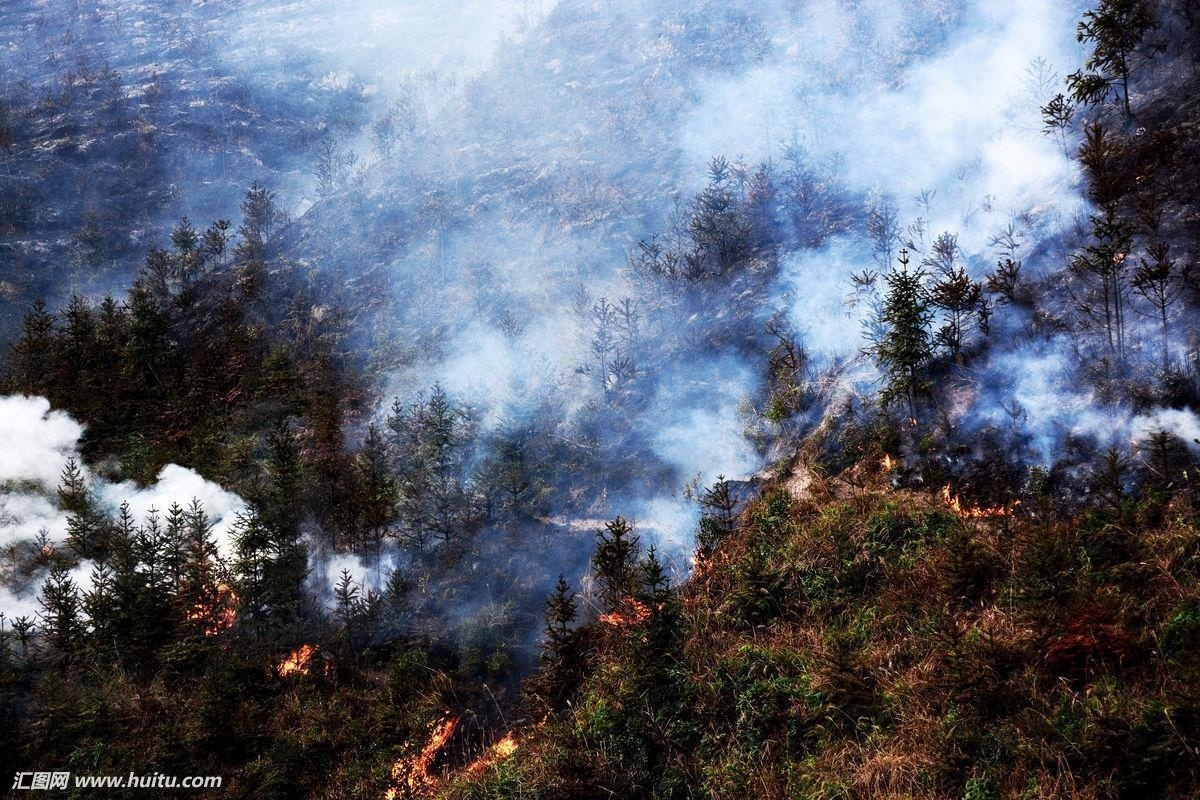fire: (379, 714, 523, 793), (186, 579, 243, 636), (936, 482, 1017, 520), (597, 595, 657, 630), (274, 639, 320, 676), (688, 543, 718, 577)
